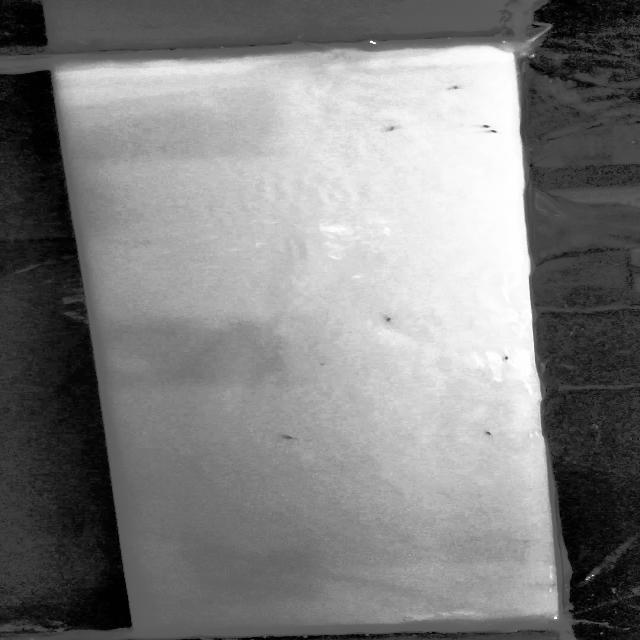shrimp: (264, 427, 305, 446), (376, 310, 411, 331), (435, 82, 464, 94), (468, 118, 498, 128), (383, 122, 403, 135), (497, 353, 518, 362), (478, 428, 495, 438), (485, 127, 502, 136)
